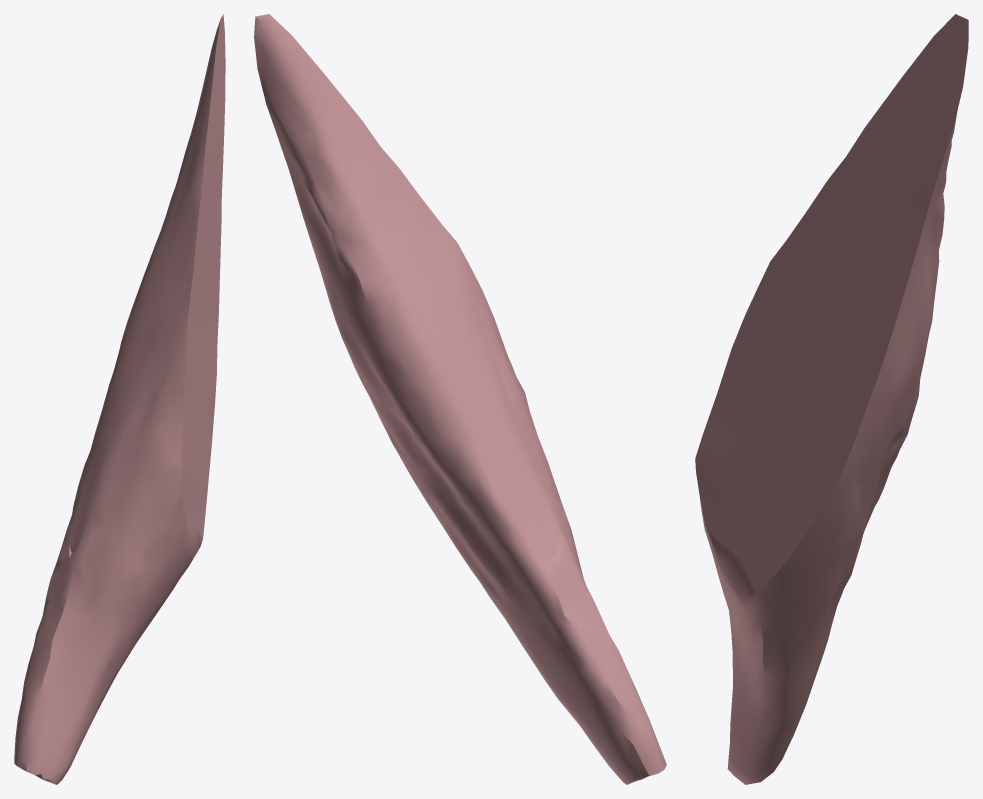
The model's file is fma297812_mm1854.glb.
The picture shows the model from 3 angles, left to right: view 1: azimuth 30°, elevation 25°; view 2: azimuth 150°, elevation 25°; view 3: azimuth 270°, elevation 25°; orthographic projection. The views are drawn at different scales.
Visible parts, largest first — view 1: FMA297812_MM1854; view 2: FMA297812_MM1854; view 3: FMA297812_MM1854.
Part boxes in pixels (x1=…): FMA297812_MM1854: x1=14, y1=14, x2=225, y2=784; FMA297812_MM1854: x1=254, y1=14, x2=666, y2=784; FMA297812_MM1854: x1=695, y1=14, x2=968, y2=784.
Bounding box in the file's own units: 0.0256 × 0.0571 × 0.0151.
